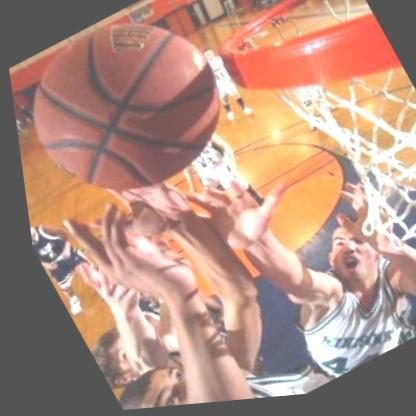basketball: (0, 0, 251, 222)
